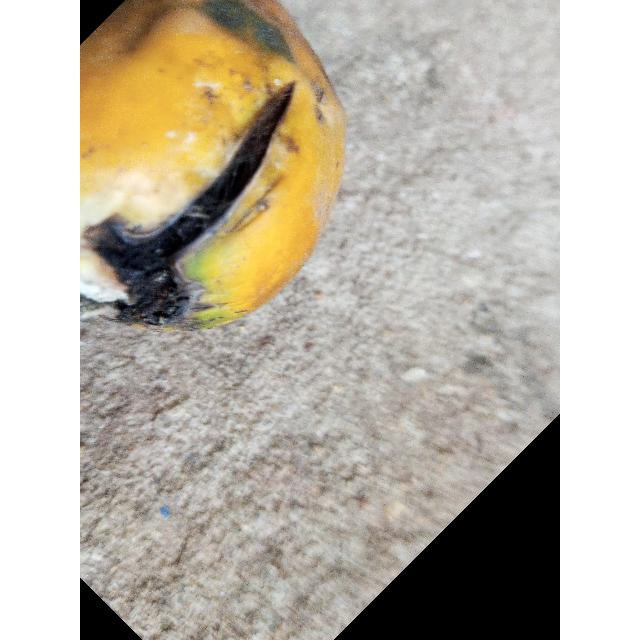damaged: (80, 0, 346, 326)
